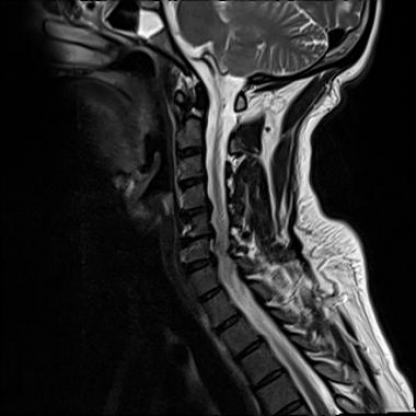Degenerative Disc Diseaserotation: (180, 231, 215, 250)
Disc Bulgerotation: (183, 257, 217, 278)
Disc Protrusionrotation: (181, 231, 216, 250), (181, 204, 211, 225)
